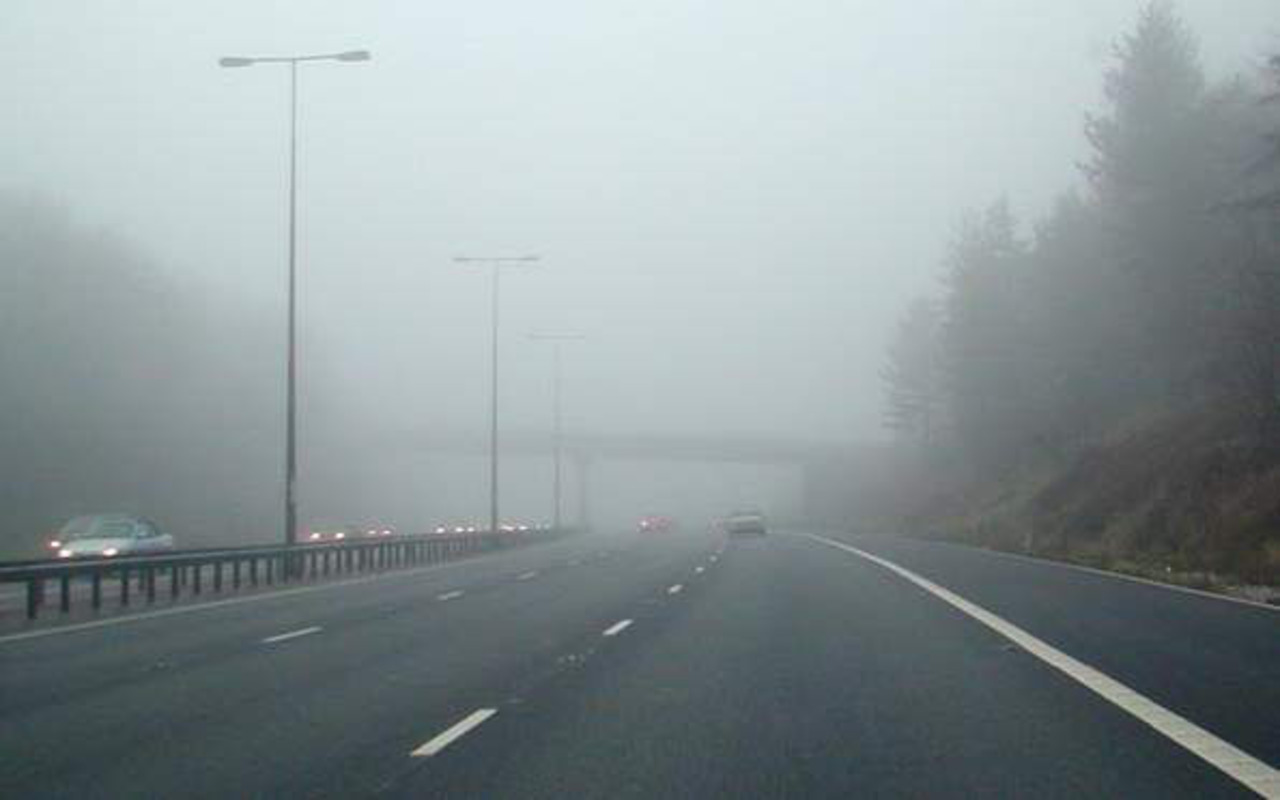car: (45, 514, 174, 562), (726, 507, 768, 537)
